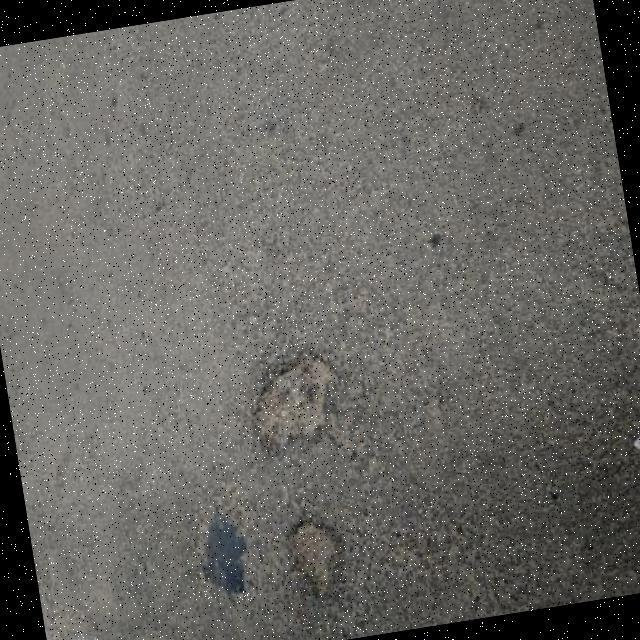Pothole: (253, 350, 343, 451), (285, 515, 353, 609)
